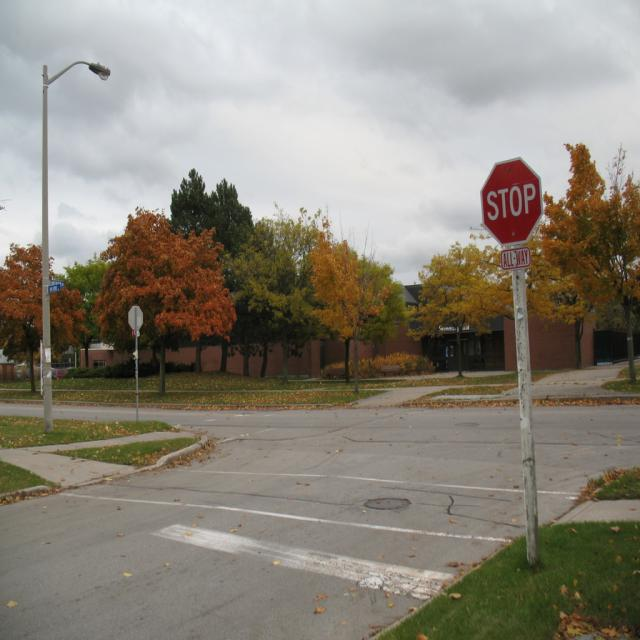Stop-sign: (479, 153, 543, 247)
